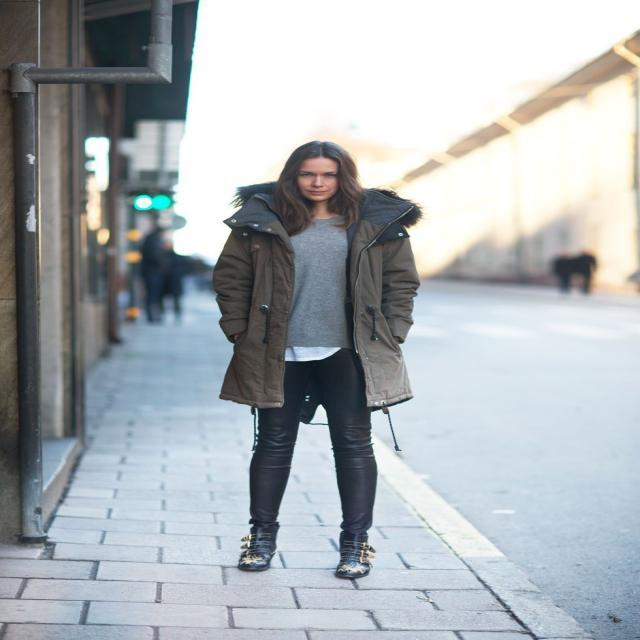coat: (209, 177, 422, 411)
sweater: (247, 347, 379, 537), (273, 210, 357, 351)
